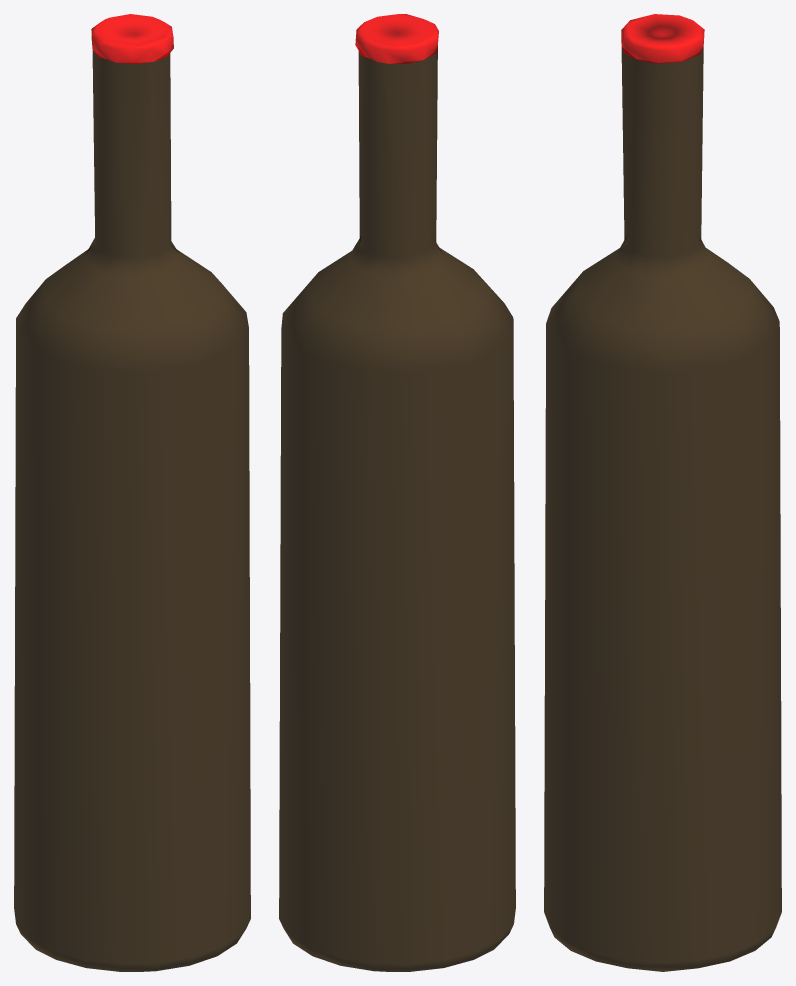
3 renders of one model, left to right at view 1: azimuth 30°, elevation 25°; view 2: azimuth 150°, elevation 25°; view 3: azimuth 270°, elevation 25°, orthographic.
Visible parts, largest first — view 1: WineBottle.001; view 2: WineBottle.001; view 3: WineBottle.001.
Boxes of the visible parts, box(x1,y1,x2,y2) form: WineBottle.001: box(14, 14, 250, 971); WineBottle.001: box(279, 14, 515, 971); WineBottle.001: box(544, 14, 781, 971).
Size of the model in its own units: 0.1009 by 0.4203 by 0.1009.
1 material, 1 textured.
